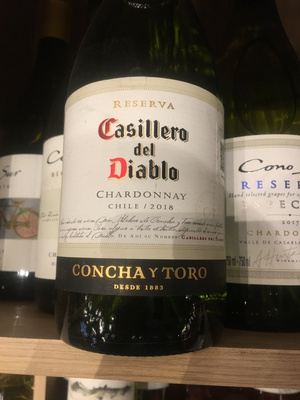casillero del diablo chardonnay: (62, 24, 231, 354)
